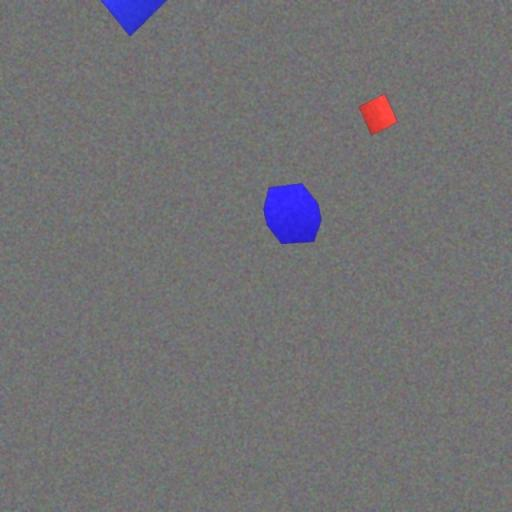BLUE_SQUARE: (88, 0, 176, 38)
RED_SQUARE: (358, 93, 398, 136)
